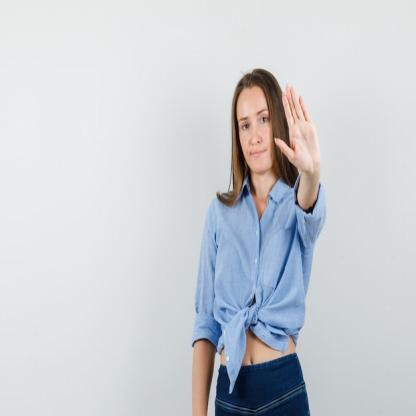stop: (272, 82, 324, 180)
